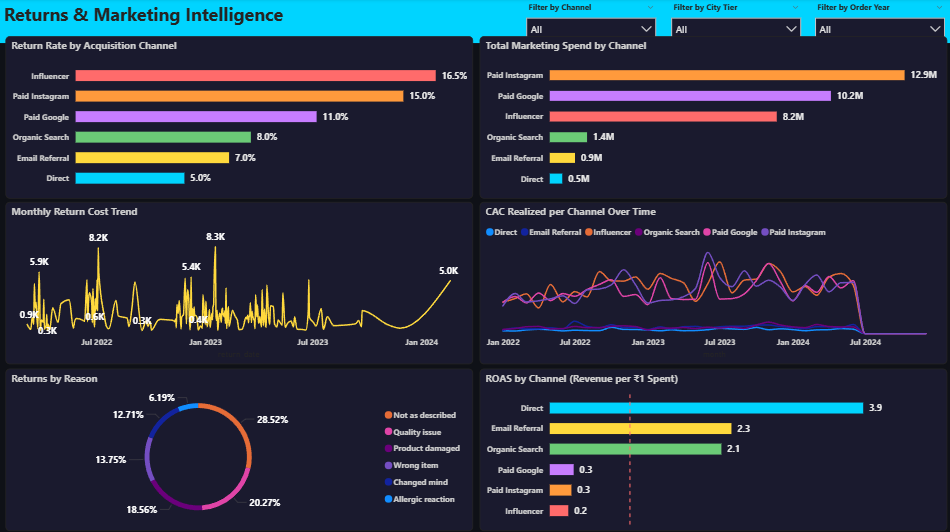

This screenshot's page, from the dashboard's own definition file:
{"tool":"powerbi","page":{"name":"Returns & Marketing","canvas":[1280,720],"ordinal":4},"visuals":[{"type":"textbox","box":[0,0,1279.4,60.1],"z":0},{"type":"clusteredBarChart","title":"ROAS by Channel (Revenue per ₹1 Spent)","fields":{"Category":["fact_marketing.channel"],"Y":["fact_marketing.ROAS"]},"box":[645,497.6,628.4,218],"z":1000},{"type":"donutChart","title":"Returns by Reason","fields":{"Category":["fact_returns.return_reason"],"Y":["CountNonNull(fact_returns.return_id)"]},"box":[7.5,497.6,628.4,218],"z":2000},{"type":"clusteredBarChart","title":"Return Rate by Acquisition Channel","fields":{"Y":["_Measures.Return Rate %"],"Category":["dim_customers.acquisition_channel"]},"box":[7.5,51.1,628.4,218],"z":3000},{"type":"lineChart","title":"Monthly Return Cost Trend","fields":{"Category":["fact_returns.return_date.Variation.Date Hierarchy.Year"],"Y":["_Measures.Total Return Cost"]},"box":[7.3,274.4,628.4,218],"z":5000},{"type":"lineChart","title":"CAC Realized per Channel Over Time","fields":{"Y":["Avg(fact_marketing.cac_realized)"],"Category":["fact_marketing.month"],"Series":["fact_marketing.channel"]},"box":[645,273.6,628.4,218],"z":6000},{"type":"slicer","fields":{"Values":["dim_channel.Channel"]},"box":[697.6,0,193.9,58.6],"z":7000},{"type":"slicer","fields":{"Values":["dim_date.Year"]},"box":[1085.5,0,193.9,57.1],"z":8000},{"type":"slicer","fields":{"Values":["dim_customers.city_tier"]},"box":[891.5,0,193.9,58.6],"z":9000},{"type":"clusteredBarChart","title":"Total Marketing Spend by Channel","fields":{"Category":["fact_marketing.channel"],"Y":["Sum(fact_marketing.spend_inr)"]},"box":[645,51.1,628.4,218],"z":9500}]}

Visuals, with their boxes in screenshot pixels (x1, y1, x2, y2), scaled from the page's 1280x720 canvas onto the 950x532 screenshot:
textbox: box(0, 0, 949, 44)
"ROAS by Channel (Revenue per ₹1 Spent)" clusteredBarChart: box(479, 368, 945, 529)
"Returns by Reason" donutChart: box(6, 368, 472, 529)
"Return Rate by Acquisition Channel" clusteredBarChart: box(6, 38, 472, 199)
"Monthly Return Cost Trend" lineChart: box(5, 203, 472, 364)
"CAC Realized per Channel Over Time" lineChart: box(479, 202, 945, 363)
slicer - dim_channel.Channel: box(518, 0, 662, 43)
slicer - dim_date.Year: box(806, 0, 949, 42)
slicer - dim_customers.city_tier: box(662, 0, 806, 43)
"Total Marketing Spend by Channel" clusteredBarChart: box(479, 38, 945, 199)
